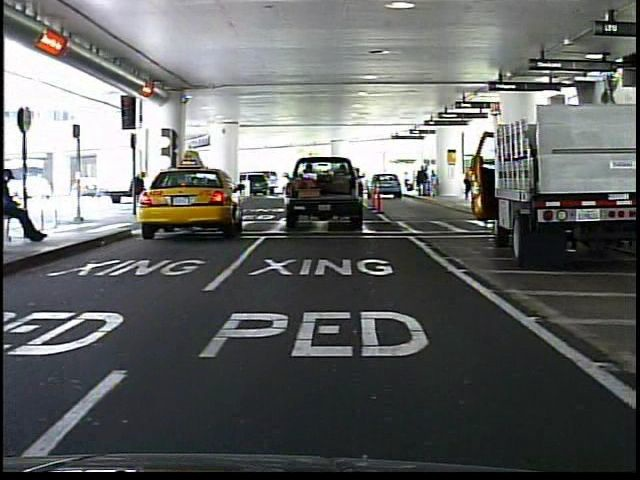person: (7, 165, 53, 245), (129, 165, 153, 221)
